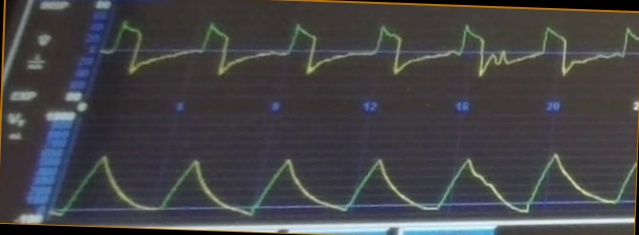Premature_cycling Flow: (106, 15, 639, 93)
Premature_cycling Volume: (63, 144, 633, 214)
